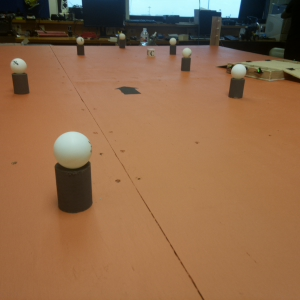blockC: (145, 49, 156, 57)
corner: (209, 15, 221, 45)
obstacle: (52, 133, 94, 210), (9, 59, 29, 94), (229, 65, 245, 97), (180, 49, 192, 74), (74, 36, 85, 56), (168, 38, 178, 56), (117, 33, 125, 49)
side: (250, 64, 276, 82)
start: (115, 83, 140, 96)
